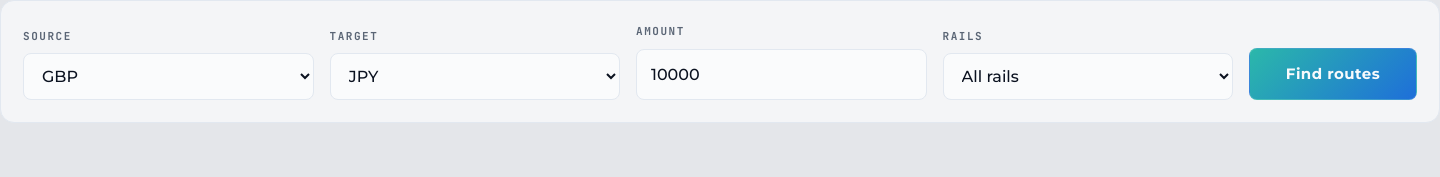
Scenario: RouteForm › blocks submission when source and target match
The width and height of the screenshot is (1440, 177).
Select "GBP" in the dropdown labelled "Target" at coordinates (475, 77), box [330,53,620,100]
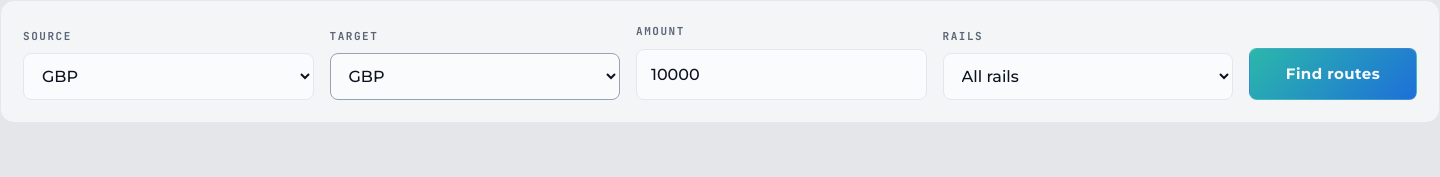
Click the button "Find routes".
click(1333, 74)  # box [1249,48,1417,100]
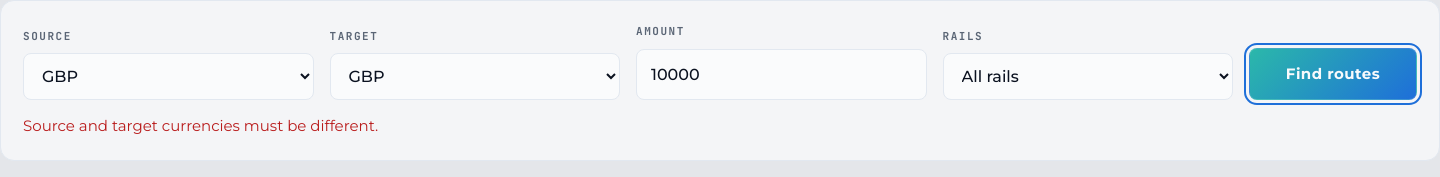
Expected: the text "Source and target currencies must be different." is shown, [23,116,378,135]
